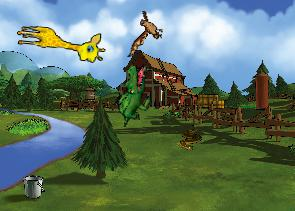crocodile: (111, 62, 156, 127)
eagle: (127, 10, 163, 57)
giraffe: (14, 24, 106, 64)
